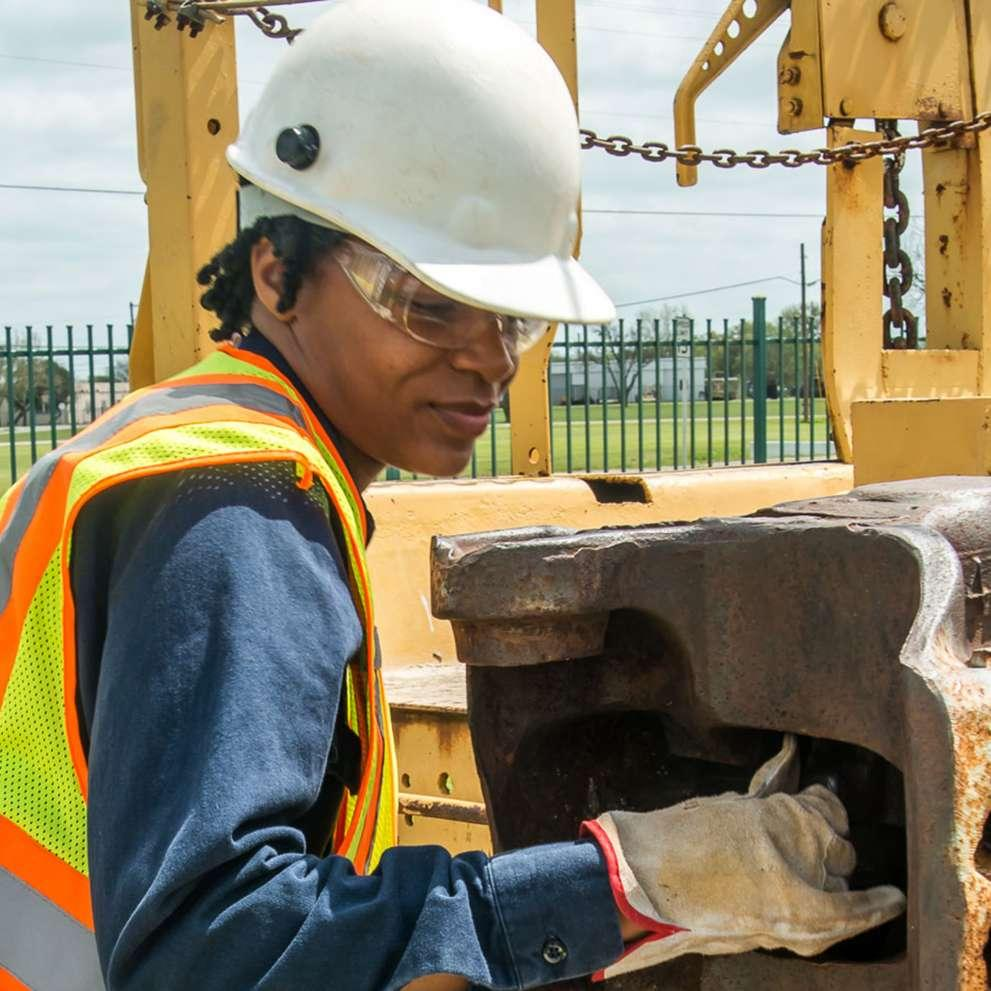helmet: (222, 1, 621, 327)
